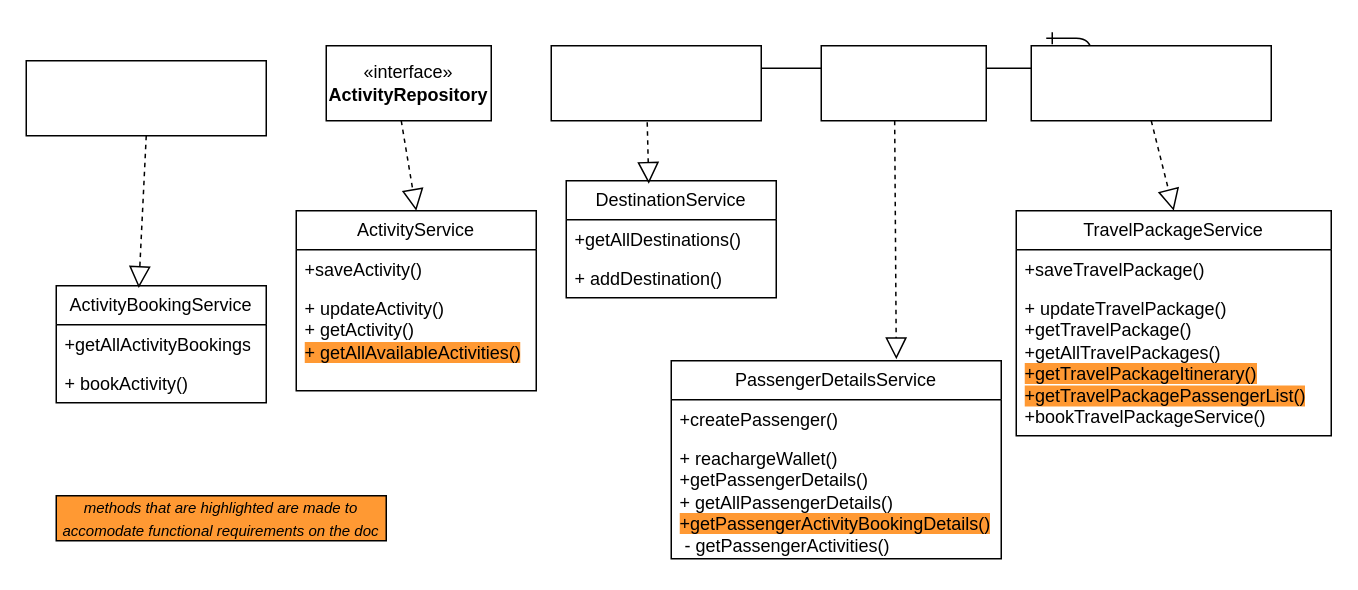
Some shapes in this 1358 by 590 pixel diagram are drawn without their labels. The shapes that lost their labels are listed below. From the top down, each one's centre as x and y in pixels, then its label:
(x=145, y=97): «interface» ActivityBookingRepository
(x=655, y=82): «interface» DestinationRepository
(x=903, y=82): «interface» PassengerRepository
(x=1150, y=82): «interface» TRavelPackageRepository
